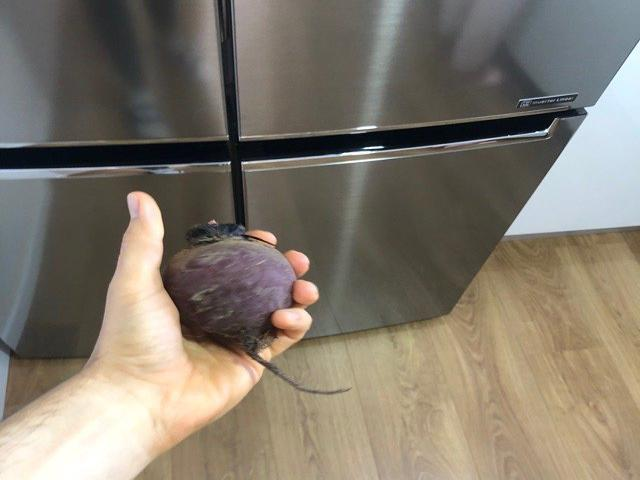beet: (162, 220, 352, 393)
